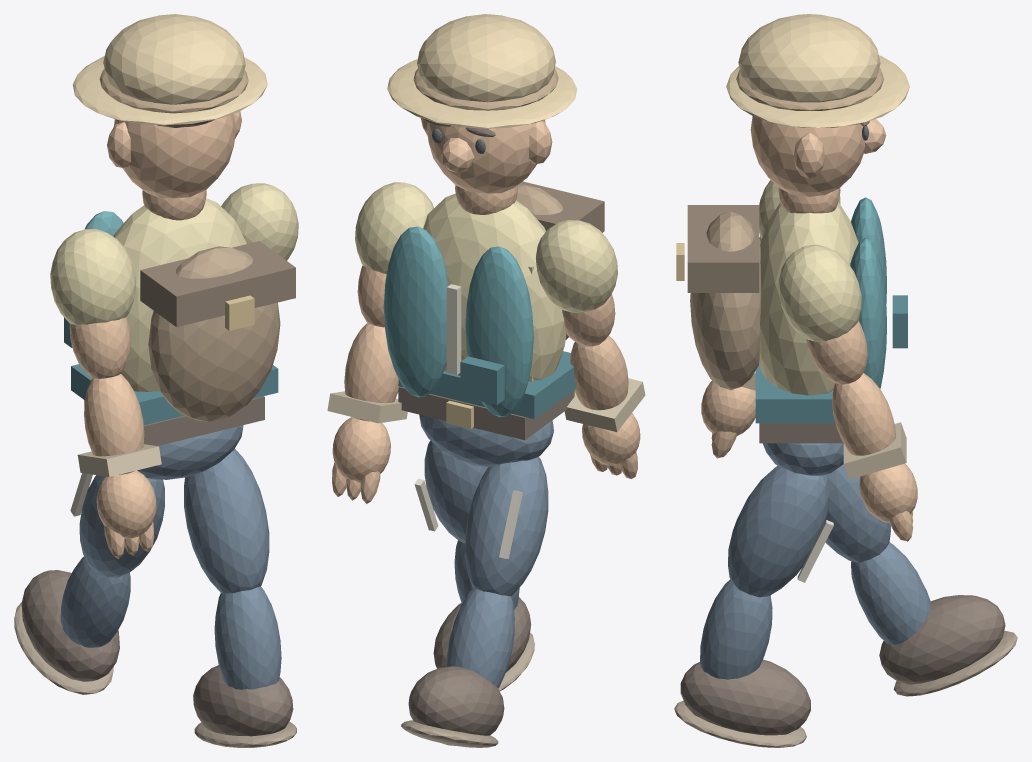
File: survivor_walk_POSE_DIAGNOSTIC.glb
3 views of the same model, side by side, from view 1: azimuth 30°, elevation 25°; view 2: azimuth 150°, elevation 25°; view 3: azimuth 270°, elevation 25° (orthographic). The views are drawn at different scales.
Visible parts, largest first — view 1: pack_body, hat_crown, R_thigh, torso_shirt, pack_flap, head_skin, L_sleeve, R_shin, L_boot, R_boot, L_shin, L_forearm (+17 smaller); view 2: hat_crown, torso_shirt, vest_right, L_thigh, vest_left, L_sleeve, L_boot, L_shin, head_skin, hat_brim, R_sleeve, hips_denim (+26 smaller); view 3: hat_crown, R_thigh, torso_shirt, pack_body, L_boot, R_boot, R_sleeve, head_skin, R_shin, L_shin, pack_flap, hat_brim (+19 smaller).
Boxes of the visible parts, box(x1,y1,x2,y2) form: pack_body: box(148, 246, 280, 421); hat_crown: box(103, 14, 245, 104); R_thigh: box(184, 449, 269, 593); torso_shirt: box(113, 198, 246, 391); pack_flap: box(140, 241, 295, 327); head_skin: box(113, 114, 235, 198); L_sleeve: box(50, 229, 135, 325); R_shin: box(214, 586, 281, 689); L_boot: box(21, 570, 119, 681); R_boot: box(193, 665, 293, 736); L_shin: box(60, 556, 130, 647); L_forearm: box(84, 374, 144, 474); hat_crown: box(417, 14, 555, 102); torso_shirt: box(423, 193, 566, 380); vest_right: box(383, 226, 448, 397); L_thigh: box(465, 456, 548, 596); vest_left: box(465, 246, 533, 417); L_sleeve: box(536, 220, 617, 312); L_boot: box(408, 666, 504, 745); L_shin: box(446, 588, 514, 688); head_skin: box(426, 119, 545, 193); hat_brim: box(387, 59, 577, 128); R_sleeve: box(355, 182, 433, 274); hips_denim: box(419, 414, 553, 467); hat_crown: box(738, 14, 880, 102); R_thigh: box(728, 466, 828, 597); torso_shirt: box(759, 202, 858, 395); pack_body: box(690, 211, 760, 390); L_boot: box(879, 595, 1005, 684); R_boot: box(680, 659, 810, 735); R_sleeve: box(778, 244, 861, 341); head_skin: box(750, 116, 865, 196); R_shin: box(700, 579, 772, 679); L_shin: box(851, 542, 931, 644); pack_flap: box(687, 205, 759, 292); hat_brim: box(726, 55, 909, 127).
Size of the model in its own units: 0.676 by 1.84 by 0.8203.
